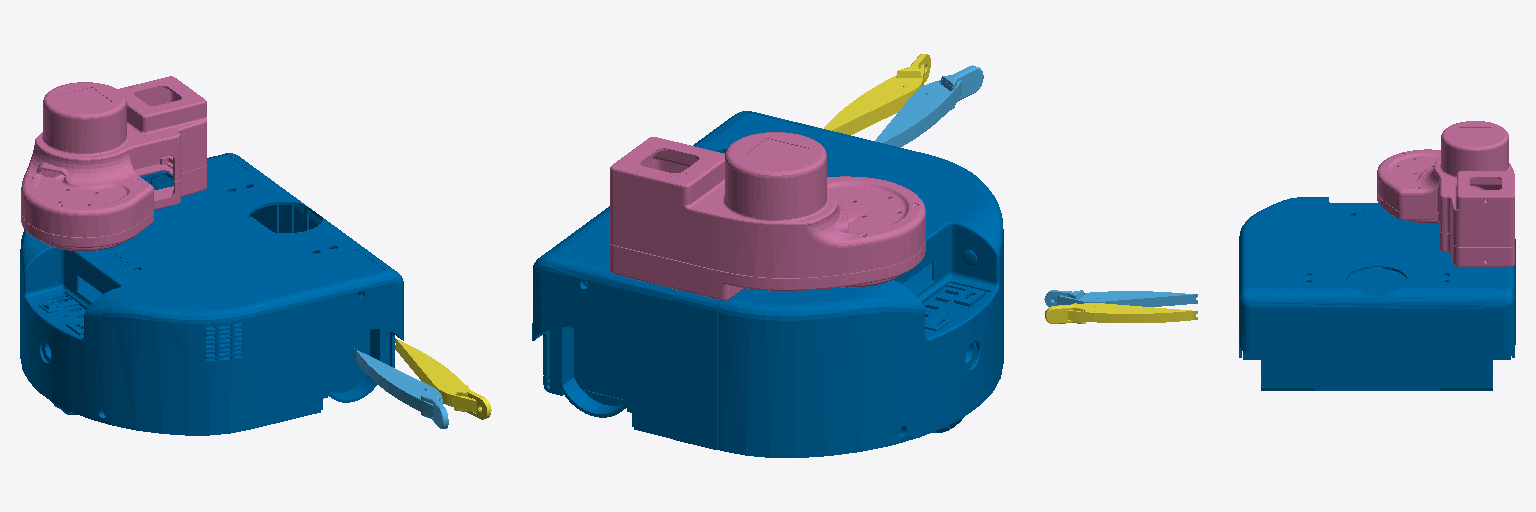
The robot description file, URDF, robot "stretch_full":
<?xml version='1.0' encoding='UTF-8'?>
<robot name="stretch_full">
  <link name="virtual_base_link">
    <inertial>
      <origin xyz="0.0 0.0 0.0" rpy="0.0 -0.0 0.0"/>
      <mass value="1.0"/>
      <inertia ixx="1.0" ixy="0.0" ixz="0.0" iyy="1.0" iyz="0.0" izz="1.0"/>
    </inertial>
  </link>
  <link name="x_virtual_link">
    <inertial>
      <origin xyz="0.0 0.0 0.0" rpy="0.0 -0.0 0.0"/>
      <mass value="1.0"/>
      <inertia ixx="1.0" ixy="0.0" ixz="0.0" iyy="1.0" iyz="0.0" izz="1.0"/>
    </inertial>
  </link>
  <link name="y_virtual_link">
    <inertial>
      <origin xyz="0.0 0.0 0.0" rpy="0.0 -0.0 0.0"/>
      <mass value="1.0"/>
      <inertia ixx="1.0" ixy="0.0" ixz="0.0" iyy="1.0" iyz="0.0" izz="1.0"/>
    </inertial>
  </link>
  <link name="z_virtual_link">
    <inertial>
      <origin xyz="0.0 0.0 0.0" rpy="0.0 -0.0 0.0"/>
      <mass value="1.0"/>
      <inertia ixx="1.0" ixy="0.0" ixz="0.0" iyy="1.0" iyz="0.0" izz="1.0"/>
    </inertial>
  </link>
  <link name="base_link">
    <inertial>
      <origin xyz="-0.087526 -0.001626 0.081009" rpy="0.0 0.0 0.0"/>
      <mass value="17.384389"/>
      <inertia ixx="0.160002" ixy="0.006758" ixz="0.004621" iyy="0.138068" iyz="0.002208" izz="0.228992"/>
    </inertial>
    <visual>
      <geometry>
        <mesh filename="./meshes/base_link.STL"/>
      </geometry>
      <material name=""/>
      <origin xyz="0.0 0.0 0.0" rpy="0.0 0.0 0.0"/>
    </visual>
    <collision>
      <geometry>
        <mesh filename="./meshes/base_link_collision.STL"/>
      </geometry>
      <origin xyz="0.0 0.0 0.0" rpy="0.0 0.0 0.0"/>
    </collision>
  </link>
  <link name="link_mast">
    <inertial>
      <origin xyz="0.000337 0.722201 0.002652" rpy="0.0 0.0 0.0"/>
      <mass value="1.764017"/>
      <inertia ixx="0.291286" ixy="0.004149" ixz="-0.000174" iyy="0.001226" iyz="0.000354" izz="0.291429"/>
    </inertial>
    <visual>
      <geometry>
        <mesh filename="./meshes/link_mast.STL"/>
      </geometry>
      <material name=""/>
      <origin xyz="0.0 0.0 0.0" rpy="0.0 0.0 0.0"/>
    </visual>
    <collision>
      <geometry>
        <mesh filename="./meshes/link_mast_collision.STL"/>
      </geometry>
      <origin xyz="0.0 0.0 0.0" rpy="0.0 0.0 0.0"/>
    </collision>
  </link>
  <link name="link_lift">
    <inertial>
      <origin xyz="-0.020369 0.03438 0.02236" rpy="0.0 0.0 0.0"/>
      <mass value="1.987167"/>
      <inertia ixx="0.006518" ixy="-0.001539" ixz="0.000371" iyy="0.004464" iyz="0.000392" izz="0.008092"/>
    </inertial>
    <visual>
      <geometry>
        <mesh filename="./meshes/link_lift.STL"/>
      </geometry>
      <material name=""/>
      <origin xyz="0.0 0.0 0.0" rpy="0.0 0.0 0.0"/>
    </visual>
    <collision>
      <geometry>
        <mesh filename="./meshes/link_lift_collision.STL"/>
      </geometry>
      <origin xyz="0.0 0.0 0.0" rpy="0.0 0.0 0.0"/>
    </collision>
  </link>
  <link name="link_arm_l4">
    <inertial>
      <origin xyz="-0.000168 -0.000254 -0.125235" rpy="0.0 0.0 0.0"/>
      <mass value="0.235626"/>
      <inertia ixx="0.001518" ixy="-1e-06" ixz="3e-06" iyy="0.001519" iyz="3e-06" izz="0.000176"/>
    </inertial>
    <visual>
      <geometry>
        <mesh filename="./meshes/link_arm_l4.STL"/>
      </geometry>
      <material name=""/>
      <origin xyz="0.0 0.0 0.0" rpy="0.0 0.0 0.0"/>
    </visual>
    <collision>
      <geometry>
        <mesh filename="./meshes/link_arm_l4_collision.STL"/>
      </geometry>
      <origin xyz="0.0 0.0 0.0" rpy="0.0 0.0 0.0"/>
    </collision>
  </link>
  <link name="link_arm_l3">
    <inertial>
      <origin xyz="-1e-06 -0.000146 -0.11908" rpy="0.0 0.0 0.0"/>
      <mass value="0.146817"/>
      <inertia ixx="0.001081" ixy="0.0" ixz="0.0" iyy="0.001081" iyz="-1e-06" izz="7.7e-05"/>
    </inertial>
    <visual>
      <geometry>
        <mesh filename="./meshes/link_arm_l3.STL"/>
      </geometry>
      <material name=""/>
      <origin xyz="0.0 0.0 0.0" rpy="0.0 0.0 0.0"/>
    </visual>
    <collision>
      <geometry>
        <mesh filename="./meshes/link_arm_l3_collision.STL"/>
      </geometry>
      <origin xyz="0.0 0.0 0.0" rpy="0.0 0.0 0.0"/>
    </collision>
  </link>
  <link name="link_arm_l2">
    <inertial>
      <origin xyz="0.0 -7.1e-05 -0.115635" rpy="0.0 0.0 0.0"/>
      <mass value="0.130565"/>
      <inertia ixx="0.000943" ixy="0.0" ixz="0.0" iyy="0.000943" iyz="0.0" izz="5.7e-05"/>
    </inertial>
    <visual>
      <geometry>
        <mesh filename="./meshes/link_arm_l2.STL"/>
      </geometry>
      <material name=""/>
      <origin xyz="0.0 0.0 0.0" rpy="0.0 0.0 0.0"/>
    </visual>
    <collision>
      <geometry>
        <mesh filename="./meshes/link_arm_l2_collision.STL"/>
      </geometry>
      <origin xyz="0.0 0.0 0.0" rpy="0.0 0.0 0.0"/>
    </collision>
  </link>
  <link name="link_arm_l1">
    <inertial>
      <origin xyz="-1e-06 -0.000121 -0.113457" rpy="0.0 0.0 0.0"/>
      <mass value="0.113658"/>
      <inertia ixx="0.0008" ixy="0.0" ixz="0.0" iyy="0.0008" iyz="0.0" izz="4e-05"/>
    </inertial>
    <visual>
      <geometry>
        <mesh filename="./meshes/link_arm_l1.STL"/>
      </geometry>
      <material name=""/>
      <origin xyz="0.0 0.0 0.0" rpy="0.0 0.0 0.0"/>
    </visual>
    <collision>
      <geometry>
        <mesh filename="./meshes/link_arm_l1_collision.STL"/>
      </geometry>
      <origin xyz="0.0 0.0 0.0" rpy="0.0 0.0 0.0"/>
    </collision>
  </link>
  <link name="link_arm_l0">
    <inertial>
      <origin xyz="0.033681 -0.000847 -0.031723" rpy="0.0 0.0 0.0"/>
      <mass value="0.427734"/>
      <inertia ixx="0.001689" ixy="-2.8e-05" ixz="0.000483" iyy="0.002107" iyz="-1.1e-05" izz="0.000571"/>
    </inertial>
    <visual>
      <geometry>
        <mesh filename="./meshes/link_arm_l0.STL"/>
      </geometry>
      <material name=""/>
      <origin xyz="0.0 0.0 0.0" rpy="0.0 0.0 0.0"/>
    </visual>
    <collision>
      <geometry>
        <mesh filename="./meshes/link_arm_l0_collision.STL"/>
      </geometry>
      <origin xyz="0.0 0.0 0.0" rpy="0.0 0.0 0.0"/>
    </collision>
  </link>
  <link name="link_wrist_yaw">
    <inertial>
      <origin xyz="0.0 -3.9e-05 -0.016495" rpy="0.0 0.0 0.0"/>
      <mass value="0.054422"/>
      <inertia ixx="9e-06" ixy="0.0" ixz="0.0" iyy="9e-06" iyz="0.0" izz="7e-06"/>
    </inertial>
    <visual>
      <geometry>
        <mesh filename="./meshes/link_wrist_yaw.STL"/>
      </geometry>
      <material name=""/>
      <origin xyz="0.0 0.0 0.0" rpy="0.0 0.0 0.0"/>
    </visual>
    <collision>
      <geometry>
        <mesh filename="./meshes/link_wrist_yaw_collision.STL"/>
      </geometry>
      <origin xyz="0.0 0.0 0.0" rpy="0.0 0.0 0.0"/>
    </collision>
  </link>
  <link name="link_wrist_yaw_bottom">
    <inertial>
      <origin xyz="-0.0165399153795968 -0.0446328107020906 -0.0281087384763343" rpy="0.0 0.0 0.0"/>
      <mass value="0.144548635554334"/>
      <inertia ixx="4.56525957614798e-05" ixy="-1.08217417869179e-06" ixz="-1.44384040297111e-08" iyy="7.22875259104698e-05" iyz="3.40820143544021e-09" izz="8.76544308203217e-05"/>
    </inertial>
    <visual>
      <geometry>
        <mesh filename="./meshes/link_DW3_wrist_yaw_bottom.STL"/>
      </geometry>
      <material name=""/>
      <origin xyz="0.0 0.0 0.0" rpy="0.0 0.0 0.0"/>
    </visual>
    <collision>
      <geometry>
        <mesh filename="./meshes/link_DW3_wrist_yaw_bottom_collision.STL"/>
      </geometry>
      <origin xyz="0.0 0.0 0.0" rpy="0.0 0.0 0.0"/>
    </collision>
  </link>
  <link name="link_wrist_pitch">
    <inertial>
      <origin xyz="-0.000711479645697954 -0.0147442681465562 0.0195140764319514" rpy="0.0 0.0 0.0"/>
      <mass value="0.116590512374845"/>
      <inertia ixx="5.76204624498191e-05" ixy="-7.78647509857216e-07" ixz="-2.86646997376633e-08" iyy="3.5844353951621e-05" iyz="1.06445058968725e-06" izz="6.36355321976534e-05"/>
    </inertial>
    <visual>
      <geometry>
        <mesh filename="./meshes/link_DW3_wrist_pitch.STL"/>
      </geometry>
      <material name=""/>
      <origin xyz="0.0 0.0 0.0" rpy="0.0 0.0 0.0"/>
    </visual>
    <collision>
      <geometry>
        <mesh filename="./meshes/link_DW3_wrist_pitch_collision.STL"/>
      </geometry>
      <origin xyz="0.0 0.0 0.0" rpy="0.0 0.0 0.0"/>
    </collision>
  </link>
  <link name="link_wrist_roll">
    <inertial>
      <origin xyz="0.000282866582415386 0.000557472767112266 0.0196635450480892" rpy="0.0 0.0 0.0"/>
      <mass value="0.0221916689638078"/>
      <inertia ixx="2.20608319376175e-06" ixy="3.01742816614342e-09" ixz="-1.83537060988685e-08" iyy="2.91436292743443e-06" iyz="-4.5509705441618e-08" izz="4.83731409646016e-06"/>
    </inertial>
    <visual>
      <geometry>
        <mesh filename="./meshes/link_DW3_wrist_roll.STL"/>
      </geometry>
      <material name=""/>
      <origin xyz="0.0 0.0 0.0" rpy="0.0 0.0 0.0"/>
    </visual>
    <collision>
      <geometry>
        <mesh filename="./meshes/link_DW3_wrist_roll_collision.STL"/>
      </geometry>
      <origin xyz="0.0 0.0 0.0" rpy="0.0 0.0 0.0"/>
    </collision>
  </link>
  <link name="link_gripper_s3_body">
    <inertial>
      <origin xyz="0.000296364207693828 0.00742489472460528 0.0440194148825503" rpy="0.0 0.0 0.0"/>
      <mass value="0.288995995074102"/>
      <inertia ixx="0.000482695285602815" ixy="-3.02029982967392e-06" ixz="6.73858128561175e-07" iyy="0.000213430693267808" iyz="-1.95797907844847e-05" izz="0.000377638305434195"/>
    </inertial>
    <visual>
      <geometry>
        <mesh filename="./meshes/link_SG3_gripper_body.STL"/>
      </geometry>
      <material name=""/>
      <origin xyz="0.0 0.0 0.0" rpy="0.0 0.0 0.0"/>
    </visual>
    <collision>
      <geometry>
        <mesh filename="./meshes/link_SG3_gripper_body_collision.STL"/>
      </geometry>
      <origin xyz="0.0 0.0 0.0" rpy="0.0 0.0 0.0"/>
    </collision>
  </link>
  <link name="link_gripper_finger_right">
    <inertial>
      <origin xyz="-0.107294725536829 -0.00404012121215261 7.86433341395387e-05" rpy="0.0 0.0 0.0"/>
      <mass value="0.0483698337858479"/>
      <inertia ixx="3.0603544296956e-06" ixy="-8.13967524445937e-07" ixz="-6.04746355450675e-08" iyy="6.12306677697621e-05" iyz="-1.81592899124487e-08" izz="6.24670188075471e-05"/>
    </inertial>
    <visual>
      <geometry>
        <mesh filename="./meshes/link_SG3_gripper_finger_right.STL"/>
      </geometry>
      <material name=""/>
      <origin xyz="0.0 0.0 0.0" rpy="0.0 0.0 0.0"/>
    </visual>
    <collision>
      <geometry>
        <mesh filename="./meshes/link_SG3_gripper_finger_right_collision.STL"/>
      </geometry>
      <origin xyz="0.0 0.0 0.0" rpy="0.0 0.0 0.0"/>
    </collision>
  </link>
  <link name="link_gripper_fingertip_right">
    <inertial>
      <origin xyz="2.8647736627363e-08 -9.47712436305537e-09 0.00812577933915037" rpy="0.0 0.0 0.0"/>
      <mass value="0.00382162062525088"/>
      <inertia ixx="4.13411802118931e-07" ixy="3.48038363075757e-16" ixz="-5.14102948448996e-13" iyy="4.13411799815932e-07" iyz="1.76223254858882e-13" izz="7.08442016110623e-07"/>
    </inertial>
    <visual>
      <geometry>
        <mesh filename="./meshes/link_SG3_gripper_fingertip_right.STL"/>
      </geometry>
      <material name=""/>
      <origin xyz="0.0 0.0 0.0" rpy="0.0 0.0 0.0"/>
    </visual>
    <collision>
      <geometry>
        <mesh filename="./meshes/link_SG3_gripper_fingertip_right_collision.STL"/>
      </geometry>
      <origin xyz="0.0 0.0 0.0" rpy="0.0 0.0 0.0"/>
    </collision>
  </link>
  <link name="link_gripper_finger_left">
    <inertial>
      <origin xyz="0.107294715994863 -0.00404011929289155 7.86443400617731e-05" rpy="0.0 0.0 0.0"/>
      <mass value="0.0483698266031602"/>
      <inertia ixx="3.06035472000871e-06" ixy="8.13968102368407e-07" ixz="6.04787443258659e-08" iyy="6.12306675643124e-05" iyz="-1.81596824851191e-08" izz="6.24670194741309e-05"/>
    </inertial>
    <visual>
      <geometry>
        <mesh filename="./meshes/link_SG3_gripper_finger_left.STL"/>
      </geometry>
      <material name=""/>
      <origin xyz="0.0 0.0 0.0" rpy="0.0 0.0 0.0"/>
    </visual>
    <collision>
      <geometry>
        <mesh filename="./meshes/link_SG3_gripper_finger_left_collision.STL"/>
      </geometry>
      <origin xyz="0.0 0.0 0.0" rpy="0.0 0.0 0.0"/>
    </collision>
  </link>
  <link name="link_gripper_fingertip_left">
    <inertial>
      <origin xyz="-3.08483497635237e-08 -1.26956833934599e-09 0.0081257795407928" rpy="0.0 0.0 0.0"/>
      <mass value="0.00382162054362131"/>
      <inertia ixx="4.13411804417319e-07" ixy="2.60118266065524e-16" ixz="5.82035131405725e-13" iyy="4.13411805017951e-07" iyz="2.22196449834679e-14" izz="7.08442015318697e-07"/>
    </inertial>
    <visual>
      <geometry>
        <mesh filename="./meshes/link_SG3_gripper_fingertip_left.STL"/>
      </geometry>
      <material name=""/>
      <origin xyz="0.0 0.0 0.0" rpy="0.0 0.0 0.0"/>
    </visual>
    <collision>
      <geometry>
        <mesh filename="./meshes/link_SG3_gripper_fingertip_left_collision.STL"/>
      </geometry>
      <origin xyz="0.0 0.0 0.0" rpy="0.0 0.0 0.0"/>
    </collision>
  </link>
  <link name="link_grasp_center">
    <inertial>
      <origin xyz="0.0 0.0 0.0" rpy="0.0 -0.0 0.0"/>
      <mass value="1.0"/>
      <inertia ixx="1.0" ixy="0.0" ixz="0.0" iyy="1.0" iyz="0.0" izz="1.0"/>
    </inertial>
  </link>
  <joint name="virtual_base_joint" type="fixed">
    <parent link="z_virtual_link"/>
    <child link="base_link"/>
    <axis xyz="1. 0. 0."/>
    <origin xyz="0.0 0.0 0.0" rpy="0.0 -0.0 0.0"/>
  </joint>
  <joint name="x_prismatic_joint" type="prismatic">
    <limit effort="10.0" velocity="1.0" lower="-100.0" upper="100.0"/>
    <parent link="virtual_base_link"/>
    <child link="x_virtual_link"/>
    <axis xyz="1. 0. 0."/>
    <origin xyz="0.0 0.0 0.0" rpy="0.0 -0.0 0.0"/>
  </joint>
  <joint name="y_prismatic_joint" type="prismatic">
    <limit effort="10.0" velocity="1.0" lower="-100.0" upper="100.0"/>
    <parent link="x_virtual_link"/>
    <child link="y_virtual_link"/>
    <axis xyz="0. 1. 0."/>
    <origin xyz="0.0 0.0 0.0" rpy="0.0 -0.0 0.0"/>
  </joint>
  <joint name="z_revolute_joint" type="continuous">
    <limit effort="1000.0" velocity="10.0"/>
    <parent link="y_virtual_link"/>
    <child link="z_virtual_link"/>
    <axis xyz="0. 0. 1."/>
    <origin xyz="0.0 0.0 0.0" rpy="0.0 -0.0 0.0"/>
  </joint>
  <joint name="joint_mast" type="fixed">
    <parent link="base_link"/>
    <child link="link_mast"/>
    <axis xyz="1. 0. 0."/>
    <origin xyz="-0.067 0.135 0.0284" rpy="1.5708 0.0 4.8006e-17"/>
  </joint>
  <joint name="joint_lift" type="prismatic">
    <limit effort="100.0" velocity="1.0" lower="0.0" upper="1.1"/>
    <parent link="link_mast"/>
    <child link="link_lift"/>
    <axis xyz="0. 0. 1."/>
    <origin xyz="-0.037385 0.1666 0.0" rpy="1.5707926535897934 1.5707926535755432 -3.141592653589793"/>
  </joint>
  <joint name="joint_arm_l4" type="fixed">
    <parent link="link_lift"/>
    <child link="link_arm_l4"/>
    <axis xyz="1. 0. 0."/>
    <origin xyz="-0.2547 0.0 0.0" rpy="1.5708 2.4721e-15 -1.5708"/>
  </joint>
  <joint name="joint_arm_l3" type="prismatic">
    <limit effort="100.0" velocity="1.0" lower="0.0" upper="0.13"/>
    <parent link="link_arm_l4"/>
    <child link="link_arm_l3"/>
    <axis xyz="0. 0. 1."/>
    <origin xyz="0.0 0.0 0.013" rpy="7.68831233799385e-30 2.36716479416092e-30 2.29652732251143e-17"/>
  </joint>
  <joint name="joint_arm_l2" type="prismatic">
    <limit effort="100.0" velocity="1.0" lower="0.0" upper="0.13"/>
    <parent link="link_arm_l3"/>
    <child link="link_arm_l2"/>
    <axis xyz="0. 0. 1."/>
    <origin xyz="0.0 0.0 0.013" rpy="0.0 1.57655765344625e-30 -1.66533453693773e-16"/>
  </joint>
  <joint name="joint_arm_l1" type="prismatic">
    <limit effort="100.0" velocity="1.0" lower="0.0" upper="0.13"/>
    <parent link="link_arm_l2"/>
    <child link="link_arm_l1"/>
    <axis xyz="0. 0. 1."/>
    <origin xyz="0.0 0.0 0.0129999999999981" rpy="-7.63746778746202e-30 -7.88860905221012e-31 1.11022302462516e-16"/>
  </joint>
  <joint name="joint_arm_l0" type="prismatic">
    <limit effort="100.0" velocity="1.0" lower="0.0" upper="0.13"/>
    <parent link="link_arm_l1"/>
    <child link="link_arm_l0"/>
    <axis xyz="0. 0. 1."/>
    <origin xyz="0.0 0.0 -0.0137499999991968" rpy="7.63746778746202e-30 -3.80121128864402e-15 2.62707547767438e-15"/>
  </joint>
  <joint name="joint_wrist_yaw" type="revolute">
    <limit effort="100.0" velocity="1.0" lower="-1.75" upper="4.0"/>
    <parent link="link_arm_l0"/>
    <child link="link_wrist_yaw"/>
    <axis xyz=" 0.  0. -1."/>
    <origin xyz="0.0830000000000654 -0.0307500000000129 0.0" rpy="-1.5707963267949 0.0 3.14159265358978"/>
  </joint>
  <joint name="joint_wrist_yaw_bottom" type="fixed">
    <parent link="link_wrist_yaw"/>
    <child link="link_wrist_yaw_bottom"/>
    <axis xyz="1. 0. 0."/>
    <origin xyz="0.0 0.0 0.0" rpy="-3.14159265358979 0.0 -1.5707963267949"/>
  </joint>
  <joint name="joint_wrist_pitch" type="revolute">
    <limit effort="100.0" velocity="1.0" lower="-1.57" upper="0.56"/>
    <parent link="link_wrist_yaw_bottom"/>
    <child link="link_wrist_pitch"/>
    <axis xyz=" 0.  0. -1."/>
    <origin xyz="0.0 -0.019455 -0.0305" rpy="1.5708 0.0 -3.1415853071795867"/>
  </joint>
  <joint name="joint_wrist_roll" type="revolute">
    <limit effort="100.0" velocity="1.0" lower="-3.14" upper="3.14"/>
    <parent link="link_wrist_pitch"/>
    <child link="link_wrist_roll"/>
    <axis xyz="0. 0. 1."/>
    <origin xyz="-0.018859 -0.024 0.01955" rpy="7.3464102067096675e-06 1.5707926535755432 -3.141592653589793"/>
  </joint>
  <joint name="joint_gripper_s3_body" type="fixed">
    <parent link="link_wrist_roll"/>
    <child link="link_gripper_s3_body"/>
    <axis xyz="1. 0. 0."/>
    <origin xyz="0.0 0.0 0.0209999999993159" rpy="0.0 0.0 -3.14159265358975"/>
  </joint>
  <joint name="joint_gripper_finger_right" type="fixed">
    <limit effort="0.0" velocity="0.0" lower="0.0" upper="0.0"/>
    <parent link="link_gripper_s3_body"/>
    <child link="link_gripper_finger_right"/>
    <axis xyz="0. 0. 1."/>
    <origin xyz="-0.0246929393014972 0.0 0.0371909405167257" rpy="-1.57079632679513 1.4878931873251502 3.14159265358956"/>
  </joint>
  <joint name="joint_gripper_fingertip_right" type="fixed">
    <parent link="link_gripper_finger_right"/>
    <child link="link_gripper_fingertip_right"/>
    <axis xyz="1. 0. 0."/>
    <origin xyz="-0.177784508377902 -0.0106721811879468 0.0" rpy="-1.5707963267949 0.0 0.261799387799172"/>
  </joint>
  <joint name="joint_gripper_finger_left" type="fixed">
    <limit effort="0.0" velocity="0.0" lower="0.0" upper="0.0"/>
    <parent link="link_gripper_s3_body"/>
    <child link="link_gripper_finger_left"/>
    <axis xyz=" 0.  0. -1."/>
    <origin xyz="0.0245029393015013 0.0 0.0371909405167127" rpy="-1.57079632679523 -1.4878931873467196 -3.14159265358946"/>
  </joint>
  <joint name="joint_gripper_fingertip_left" type="fixed">
    <parent link="link_gripper_finger_left"/>
    <child link="link_gripper_fingertip_left"/>
    <axis xyz="1. 0. 0."/>
    <origin xyz="0.177784508377884 -0.0106721811879429 0.0" rpy="1.57079632679491 0.0 2.87979326579064"/>
  </joint>
  <joint name="joint_grasp_center" type="fixed">
    <parent link="link_gripper_s3_body"/>
    <child link="link_grasp_center"/>
    <axis xyz="1. 0. 0."/>
    <origin xyz="0.0 0.0 0.23" rpy="-1.5707963267949 -1.5707963267948966 0.0"/>
  </joint>
  <material name="aluminum">
    <color rgba="0.5 0.5 0.5 1. "/>
  </material>
  <material name="plastic">
    <color rgba="0.1 0.1 0.1 1. "/>
  </material>
  <material name="">
    <color rgba="0.79216 0.81961 0.93333 1.     "/>
  </material>
</robot>

--- What the picture shows (computed from the rendered views, not written in the file) ---
Views: 3 orthographic renders of the robot side by side, from view 1: azimuth 30°, elevation 25°; view 2: azimuth 150°, elevation 25°; view 3: azimuth 270°, elevation 25°.
Model stretch_full with 22 links and 21 joints (3 revolute, 1 continuous, 7 prismatic, 10 fixed), rooted at virtual_base_link, posed all joints at 0.
Links seen in each view (by area): view 1: base_link, link_lift, link_gripper_finger_right, link_gripper_finger_left; view 2: base_link, link_lift, link_gripper_finger_right, link_gripper_finger_left; view 3: base_link, link_lift, link_gripper_finger_left, link_gripper_finger_right.
Link boxes in pixels (x1,y1,x2,y2): base_link: [20, 153, 403, 435]; link_lift: [21, 76, 206, 250]; link_gripper_finger_right: [353, 348, 448, 428]; link_gripper_finger_left: [395, 338, 491, 419]; base_link: [532, 111, 1003, 457]; link_lift: [610, 132, 925, 300]; link_gripper_finger_right: [875, 65, 983, 147]; link_gripper_finger_left: [824, 54, 930, 134]; base_link: [1239, 197, 1515, 390]; link_lift: [1377, 121, 1514, 266]; link_gripper_finger_left: [1045, 303, 1197, 323]; link_gripper_finger_right: [1044, 290, 1197, 306].
Size in the robot's own frame: 0.325 by 0.5829 by 0.2813 metres.
4 mesh visuals loaded from 17 distinct referenced files (4 binary STL); not drawn: 13 (reference not matched to a file when rendering).